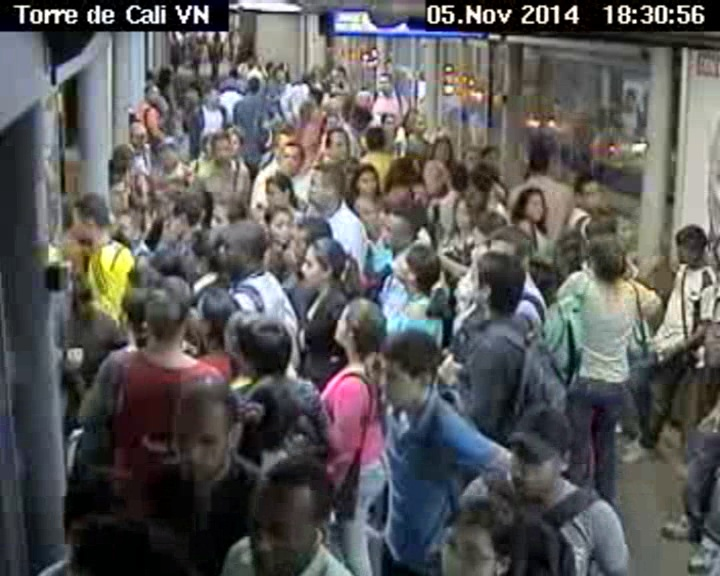person: (225, 454, 338, 571), (489, 396, 579, 507), (434, 487, 533, 576), (164, 374, 242, 471), (464, 248, 536, 333), (369, 328, 439, 413), (132, 276, 192, 359), (325, 288, 397, 357), (231, 312, 297, 386), (293, 233, 356, 307), (215, 215, 274, 283), (67, 187, 118, 261), (385, 240, 446, 301), (192, 281, 247, 348), (283, 212, 338, 268), (575, 220, 629, 276), (379, 195, 428, 249), (284, 405, 328, 460), (157, 186, 204, 235), (255, 199, 297, 252), (491, 223, 536, 272), (669, 217, 712, 265), (308, 160, 347, 210), (510, 180, 547, 230), (321, 125, 360, 170), (570, 165, 608, 209), (256, 171, 300, 209), (415, 153, 453, 197), (182, 227, 223, 267), (143, 247, 188, 283), (114, 203, 146, 251), (460, 168, 491, 214), (279, 136, 308, 175), (207, 127, 239, 162), (426, 128, 458, 163), (155, 135, 187, 169), (407, 108, 439, 142), (125, 118, 150, 151), (366, 121, 392, 150), (481, 143, 504, 173), (199, 84, 223, 112), (140, 79, 159, 107), (330, 61, 350, 86), (247, 74, 264, 95), (300, 101, 317, 122), (381, 111, 396, 133), (377, 72, 392, 93)
